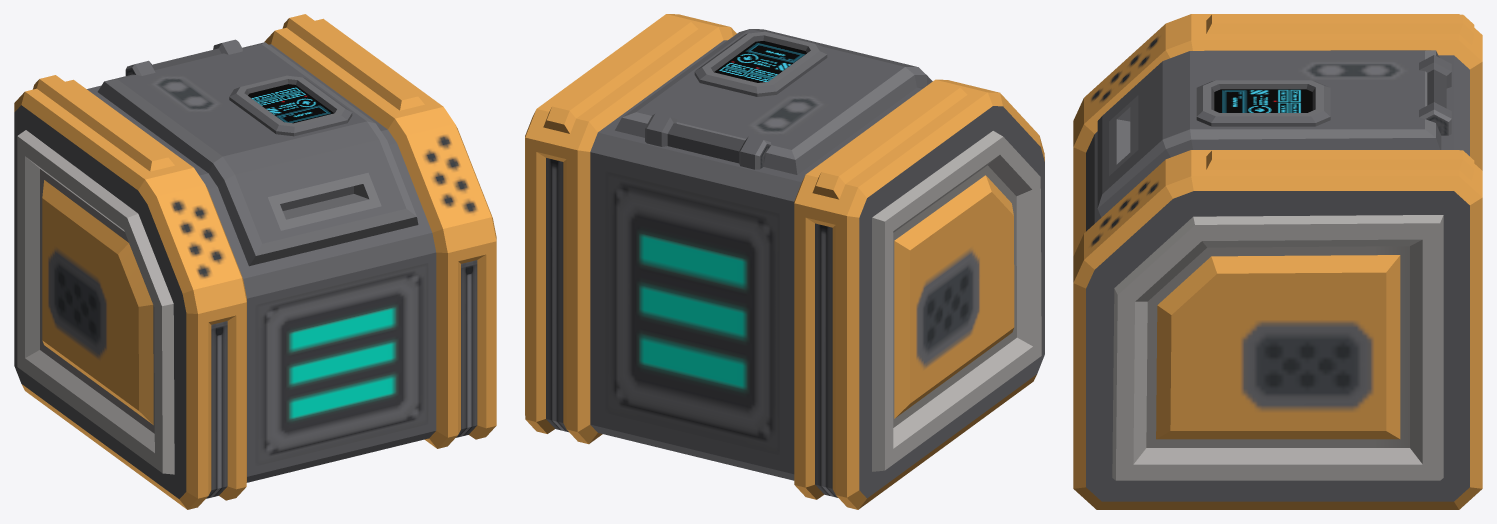
The model's file is SM_Prop_Crate_04.fbx.
3 renders of one model, left to right at view 1: azimuth 30°, elevation 25°; view 2: azimuth 150°, elevation 25°; view 3: azimuth 270°, elevation 25°, orthographic. The views are drawn at different scales.
Visible parts, largest first — view 1: SM_Prop_Crate_04; view 2: SM_Prop_Crate_04; view 3: SM_Prop_Crate_04.
Part boxes in pixels (box(x1,y1,x2,y2)): SM_Prop_Crate_04: box(14, 14, 496, 509); SM_Prop_Crate_04: box(525, 14, 1044, 509); SM_Prop_Crate_04: box(1073, 14, 1482, 509).
Bounding box in the file's own units: 83.78 × 75.24 × 80.51.
